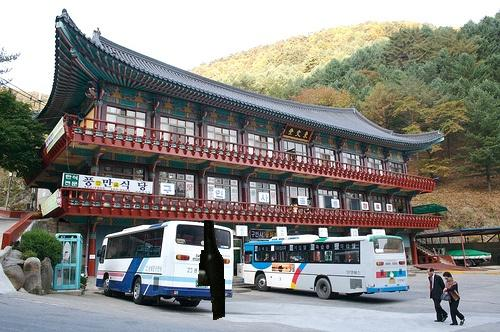tampered: (198, 221, 225, 320)
